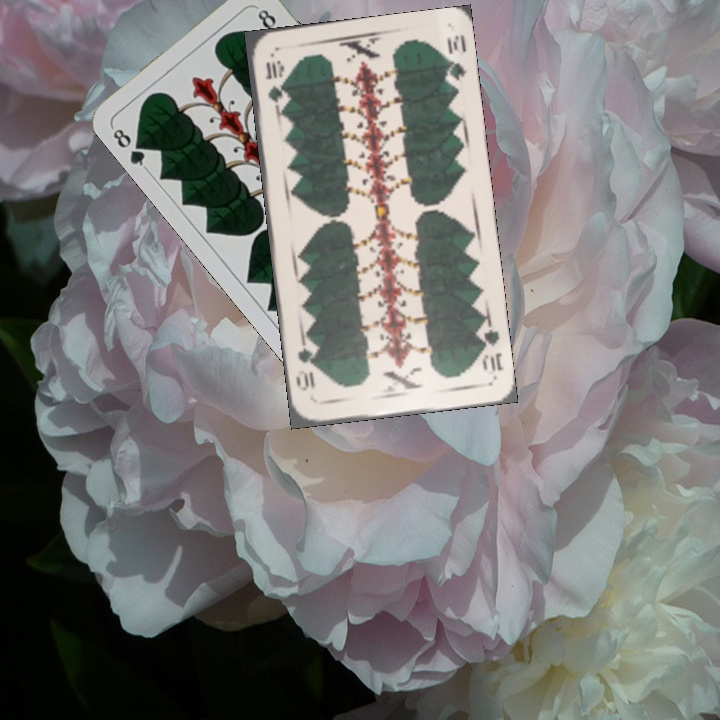G10: (474, 319, 506, 374), (261, 56, 287, 112)
G8: (107, 124, 152, 173)
